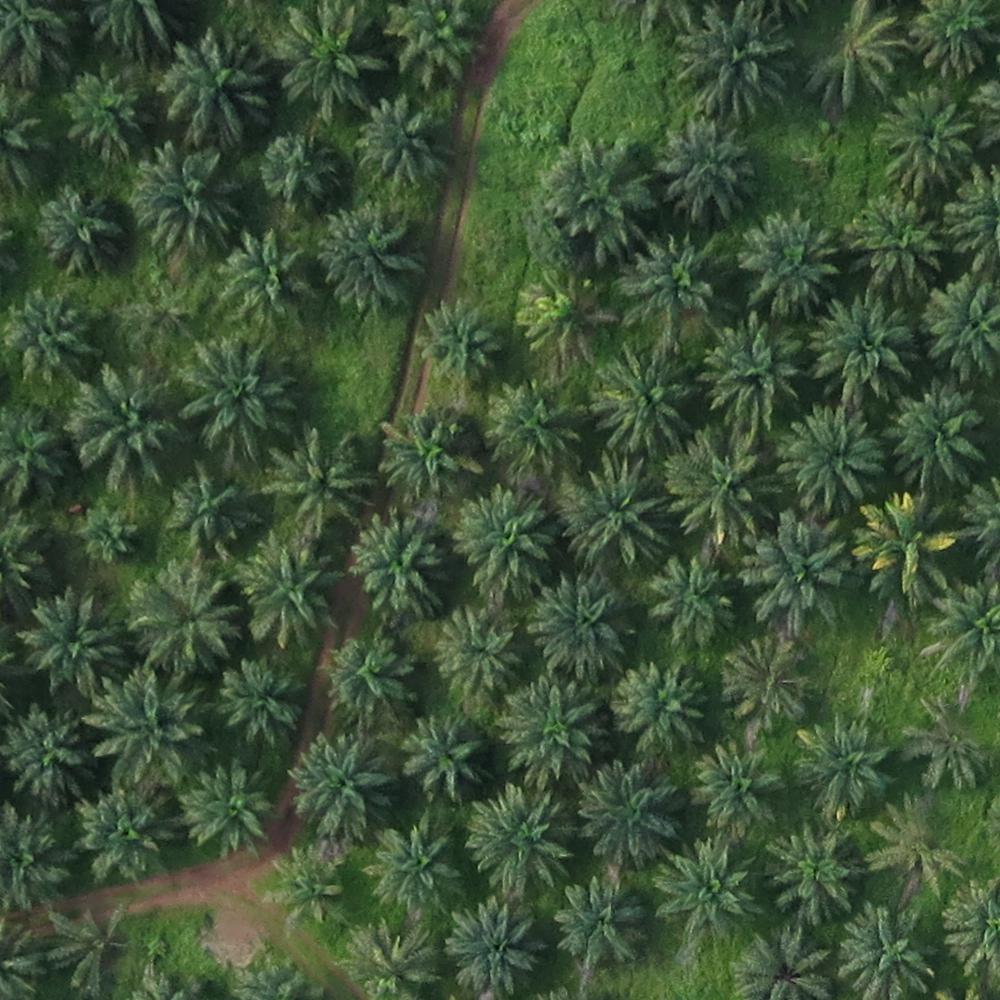not plam: (429, 201, 521, 290), (571, 21, 664, 105), (771, 122, 862, 206), (305, 327, 393, 413), (827, 625, 913, 711), (116, 269, 206, 351), (455, 106, 543, 188), (134, 884, 216, 969), (488, 8, 566, 79), (650, 938, 728, 997)
